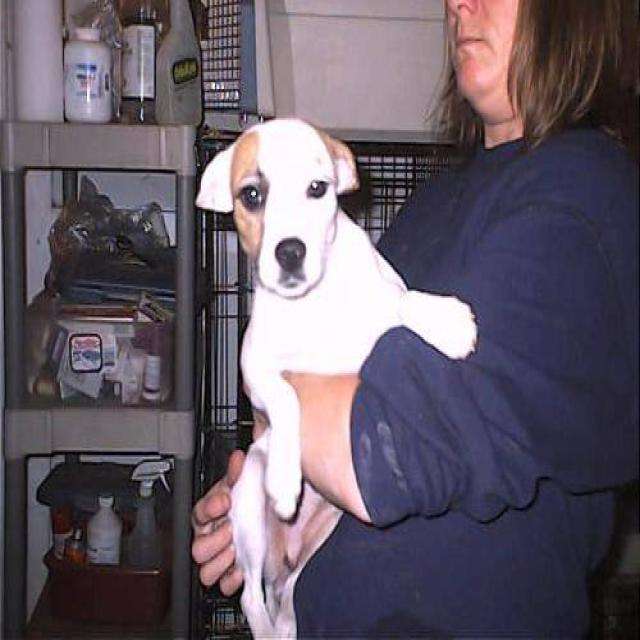dogs: (182, 140, 452, 628)
